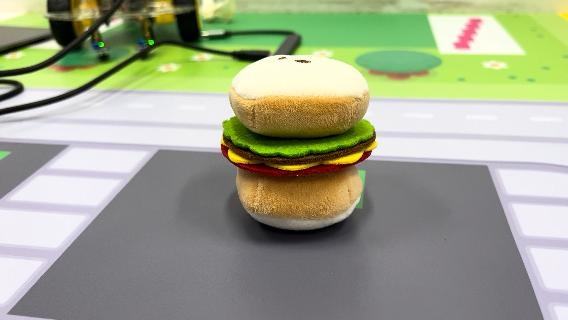sandwich: (218, 51, 380, 232)
